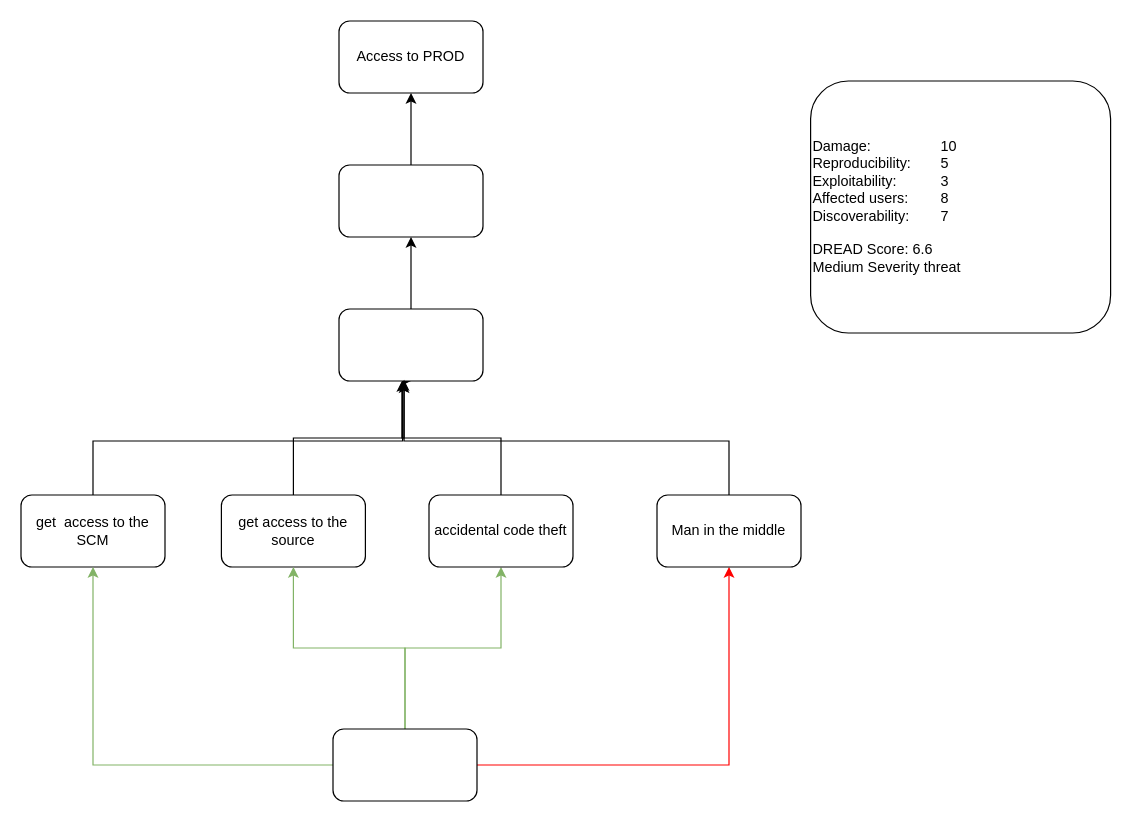
This 1132x822 diagram has some shape labels left out. The shapes that lost their labels are listed below. From the top down, each one's centre as x and y in pixels, then its label:
At (410,200): "MFA".
At (410,344): "Network Access Controls (firewall, AD, etc)".
At (404,764): "User acquiring credentials".
